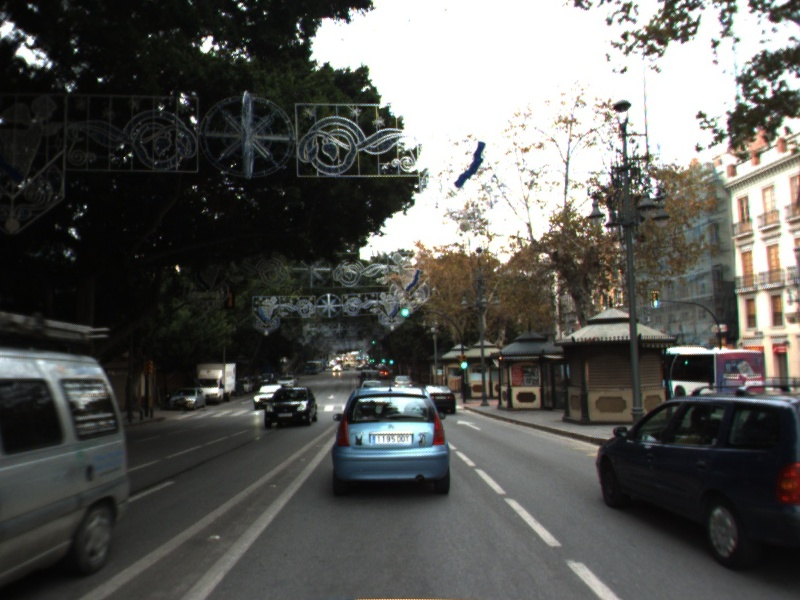STRAIGHT: (454, 417, 483, 432)
